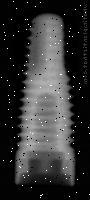Keystone Dental: (14, 11, 79, 187)
